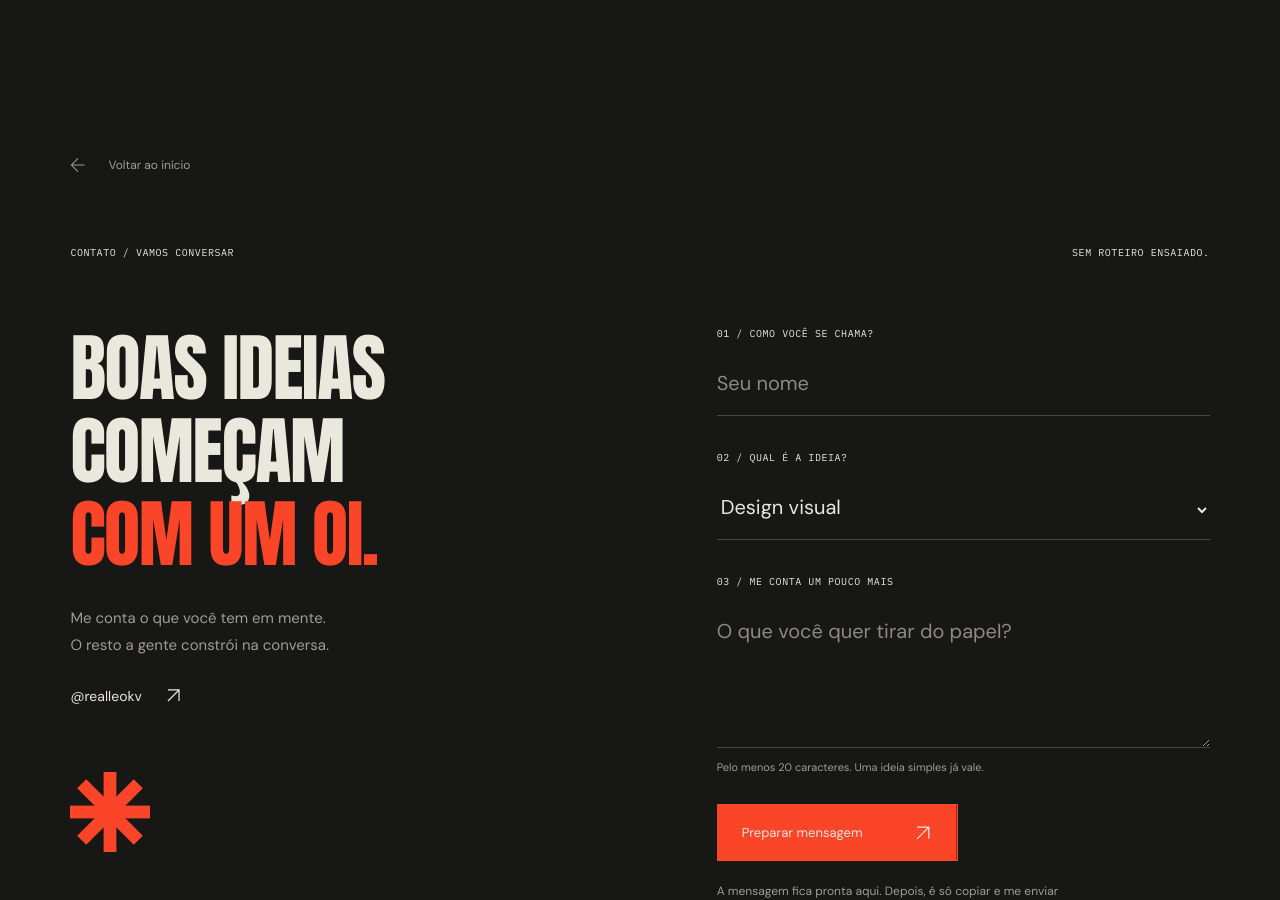
contato sem envio automático › oferece cópia manual se a área de transferência estiver indisponível
The width and height of the screenshot is (1280, 900).
Type "Bruno" into the field labelled "01 / COMO VOCÊ SE CHAMA?" at (963, 386), box [717,356,1210,416]
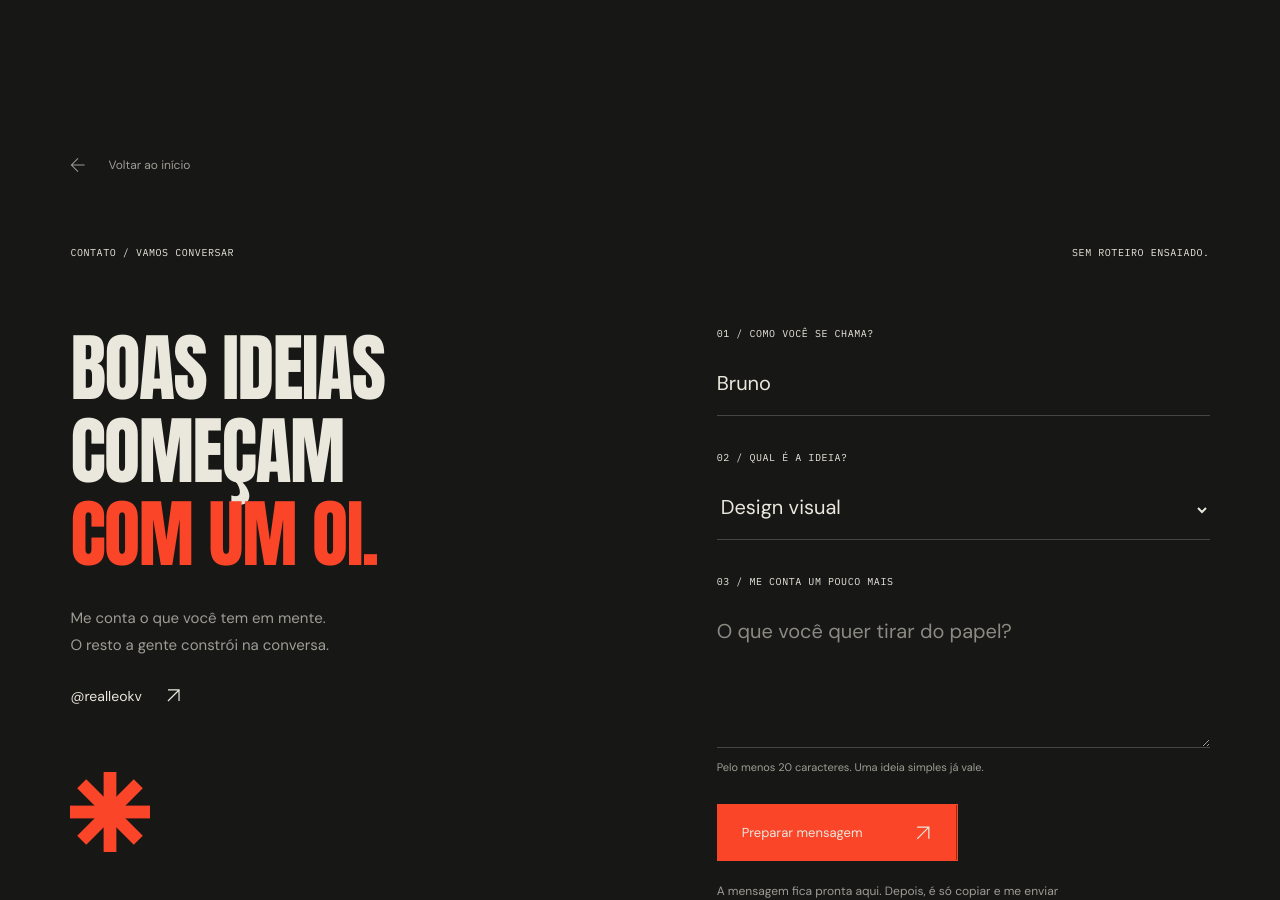
Type "Tenho uma ideia de site e gostaria de conversar." into the text box labelled "03 / ME CONTA UM POUCO MAIS" at (963, 676), box [717,604,1210,748]
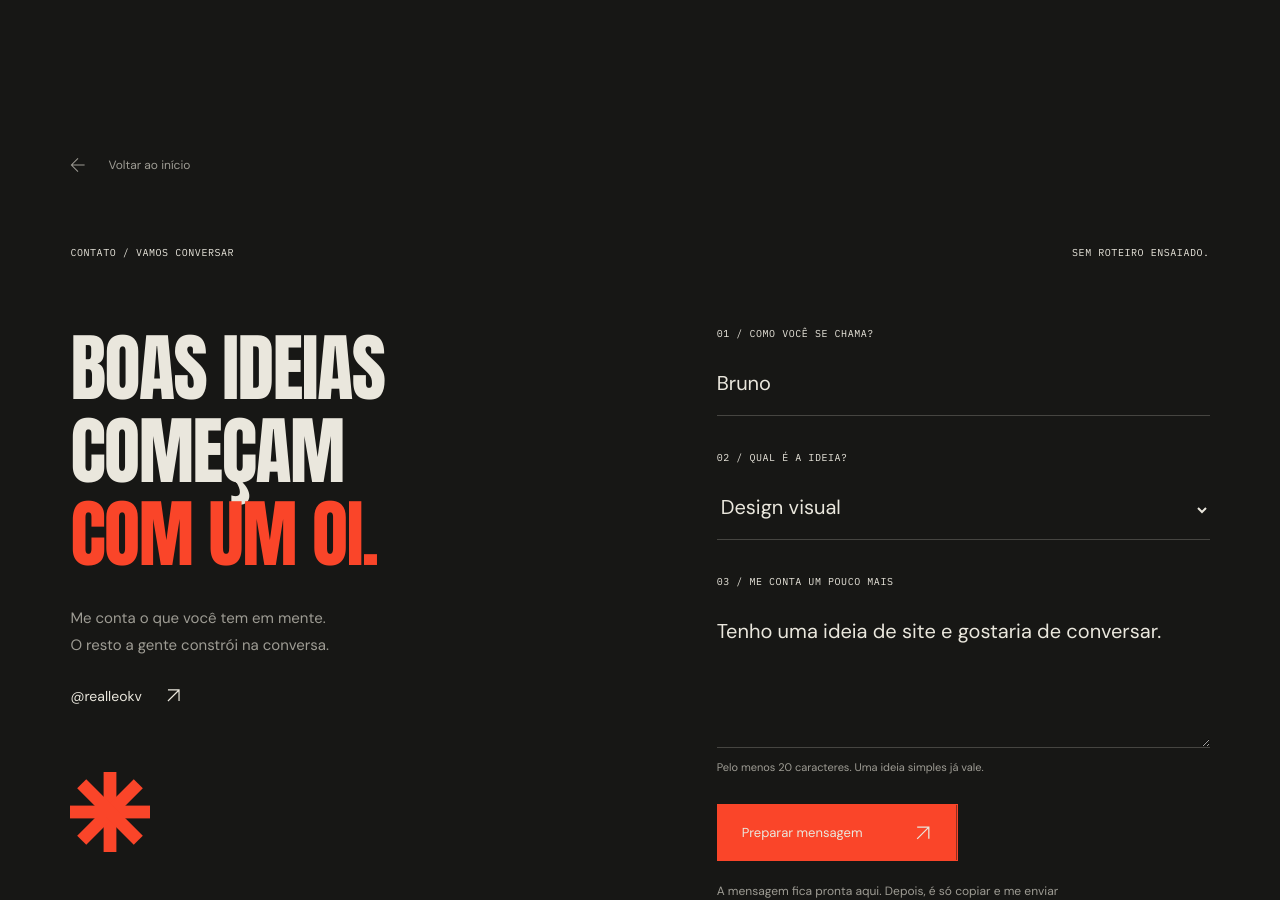
Click the button "Preparar mensagem" at (837, 832), box [717,804,958,861]
(page scrolled)
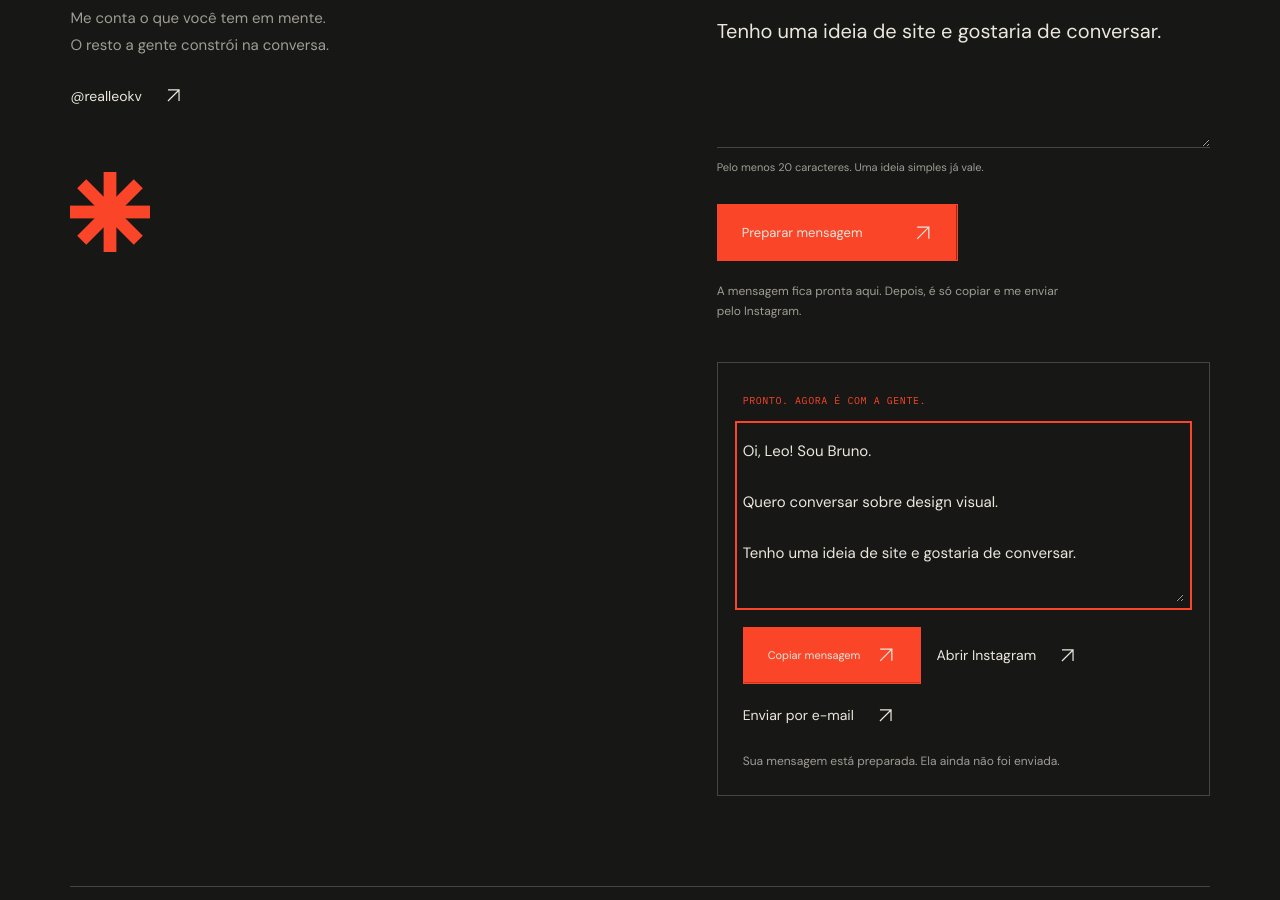
Click the button "Copiar mensagem" at (832, 655), box [743,627,922,684]
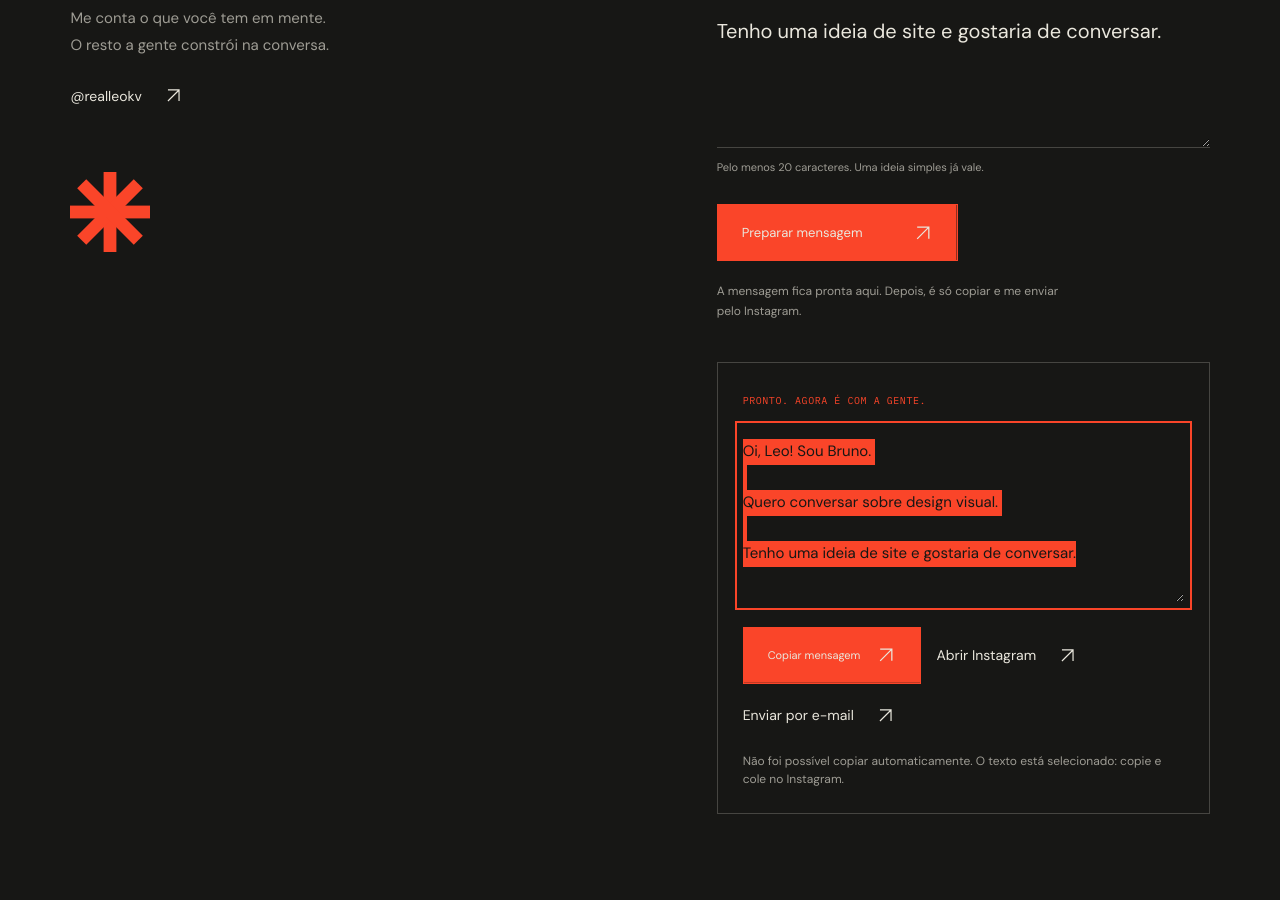
Expected: the message shows "copie e cole", [743,753,1161,787]
